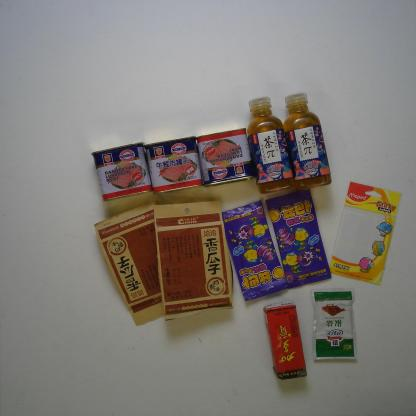Candy: (222, 198, 289, 302), (265, 189, 333, 289)
Canned Food: (90, 141, 153, 202), (142, 136, 204, 196), (196, 126, 255, 189)
Dried Food: (93, 200, 197, 325), (152, 199, 234, 322)
Drink: (282, 91, 333, 191), (246, 95, 295, 196), (262, 298, 308, 381)
Seasoner: (311, 287, 359, 361)
Stationery: (330, 180, 405, 285)
